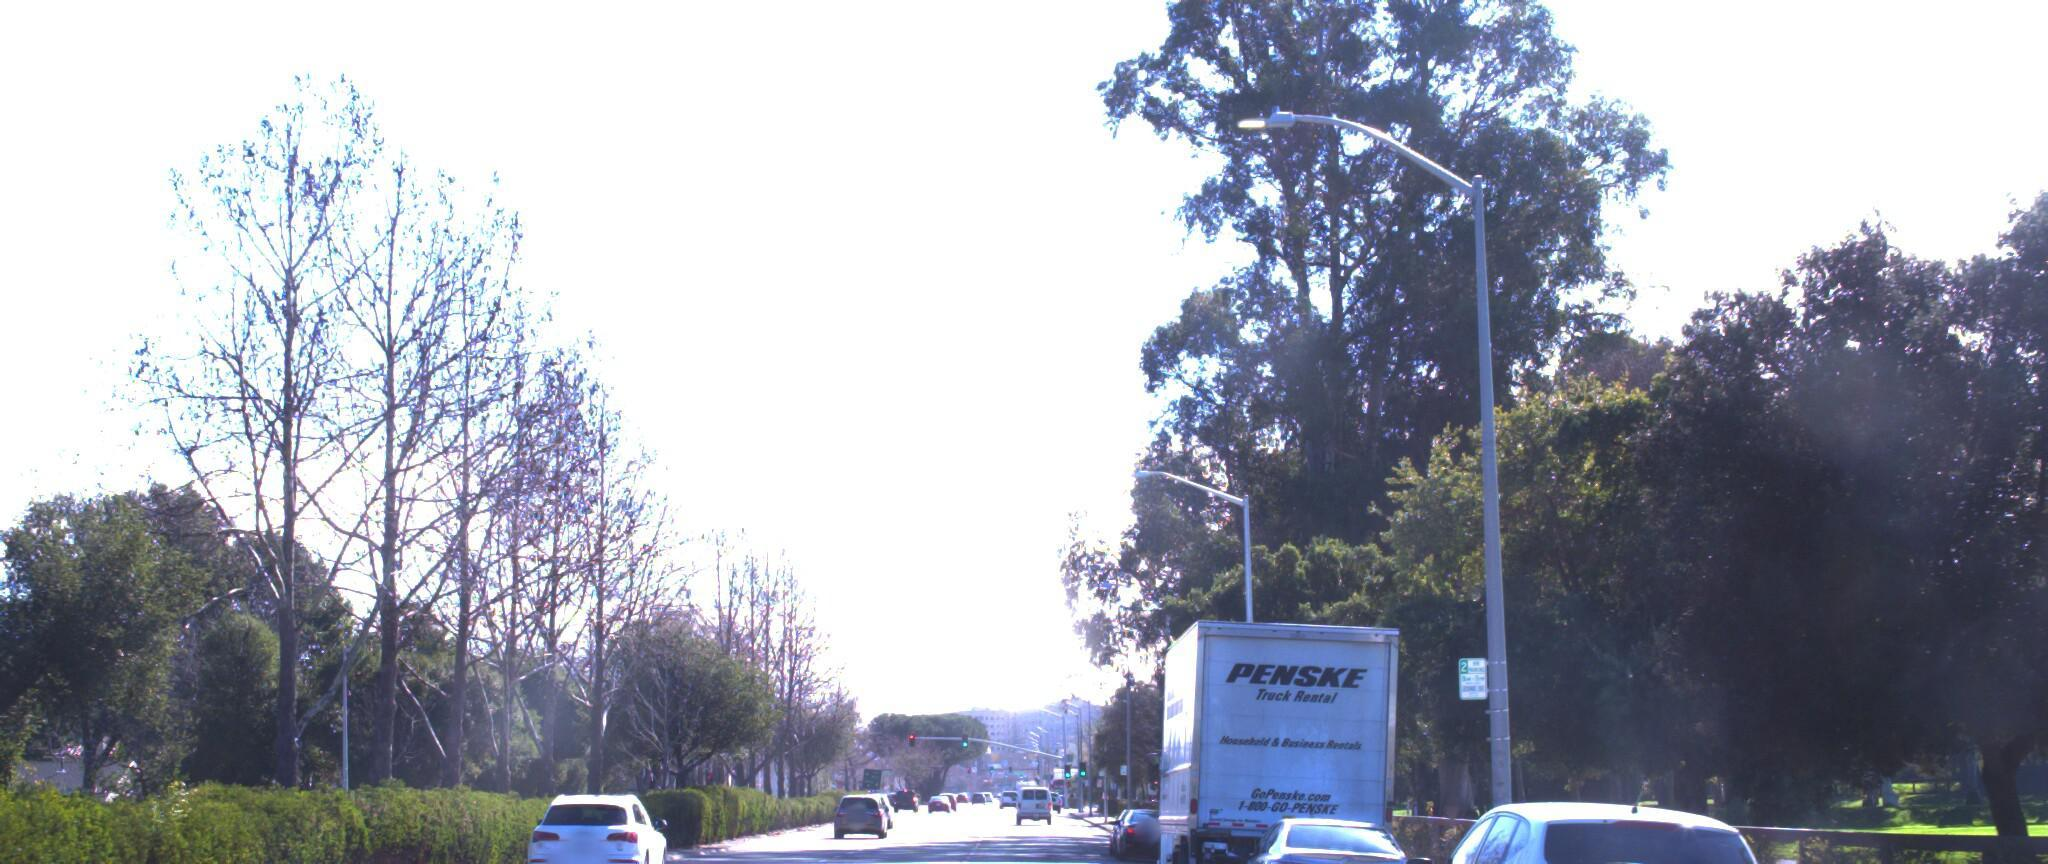car: (1354, 758, 1818, 864), (515, 745, 677, 864), (1209, 780, 1425, 864), (0, 765, 81, 864), (1109, 775, 1183, 837)
truck: (1132, 586, 1407, 864)
